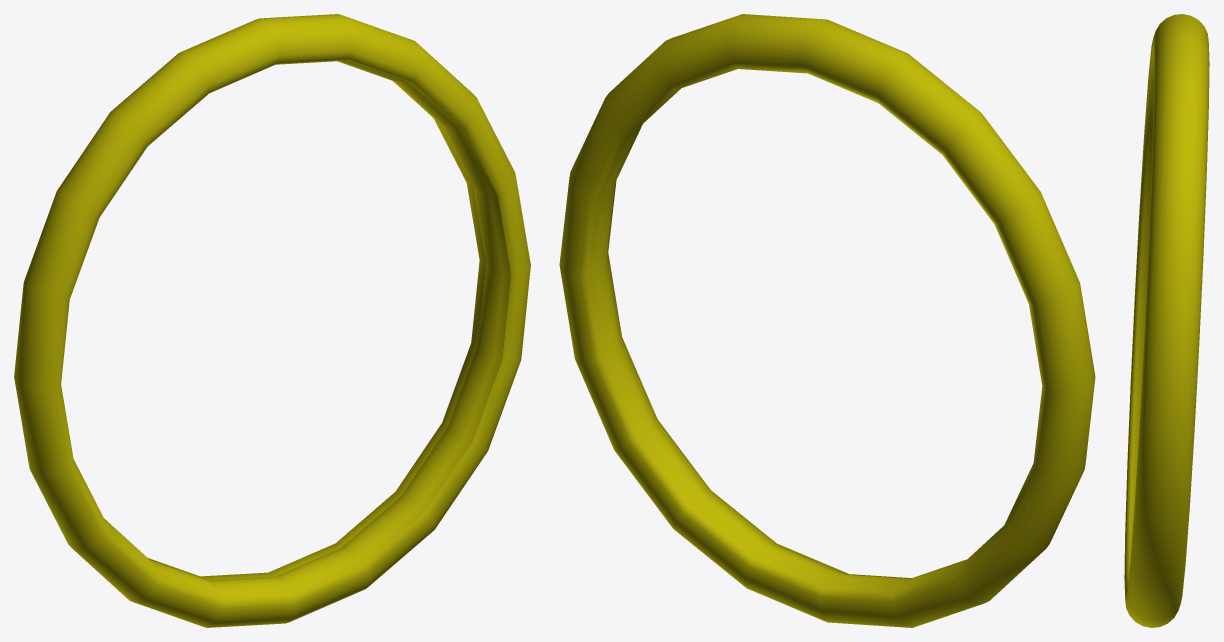
Rendered from sonic_ring.glb.
3 views of the same model, side by side, from view 1: azimuth 30°, elevation 25°; view 2: azimuth 150°, elevation 25°; view 3: azimuth 270°, elevation 25° (orthographic). The views are drawn at different scales.
Parts seen in each view (by area): view 1: pTorus1; view 2: pTorus1; view 3: pTorus1.
Boxes of the visible parts, left/top/right/bottom form: pTorus1: left=14, top=14, right=530, bottom=627; pTorus1: left=559, top=14, right=1095, bottom=627; pTorus1: left=1124, top=14, right=1209, bottom=627.
Bounding box in the file's own units: 1.13 × 1.25 × 0.1702.
